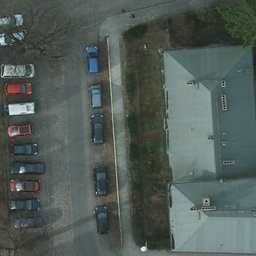car: (90, 113, 105, 145), (1, 63, 34, 77), (95, 205, 109, 236), (93, 163, 107, 194), (1, 30, 26, 47), (89, 82, 104, 109), (84, 44, 99, 71), (13, 216, 41, 230), (9, 195, 37, 209), (10, 179, 38, 193), (12, 159, 40, 173), (8, 139, 36, 153), (5, 101, 31, 114), (4, 82, 30, 95), (8, 123, 33, 136)
